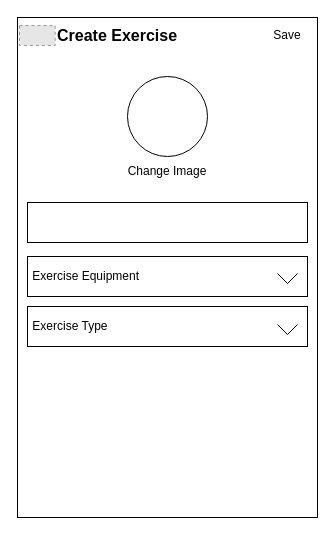
The diagram is 335 pixels wide and 535 high, and some of its shapes have lost their labels. Grey dashed boxes stand in for pictures. The box of each missing label's shape, as (x1, y1, x2, y2) in pixels:
Exercise Name: (26, 202, 308, 242)
Image: (126, 76, 208, 156)
